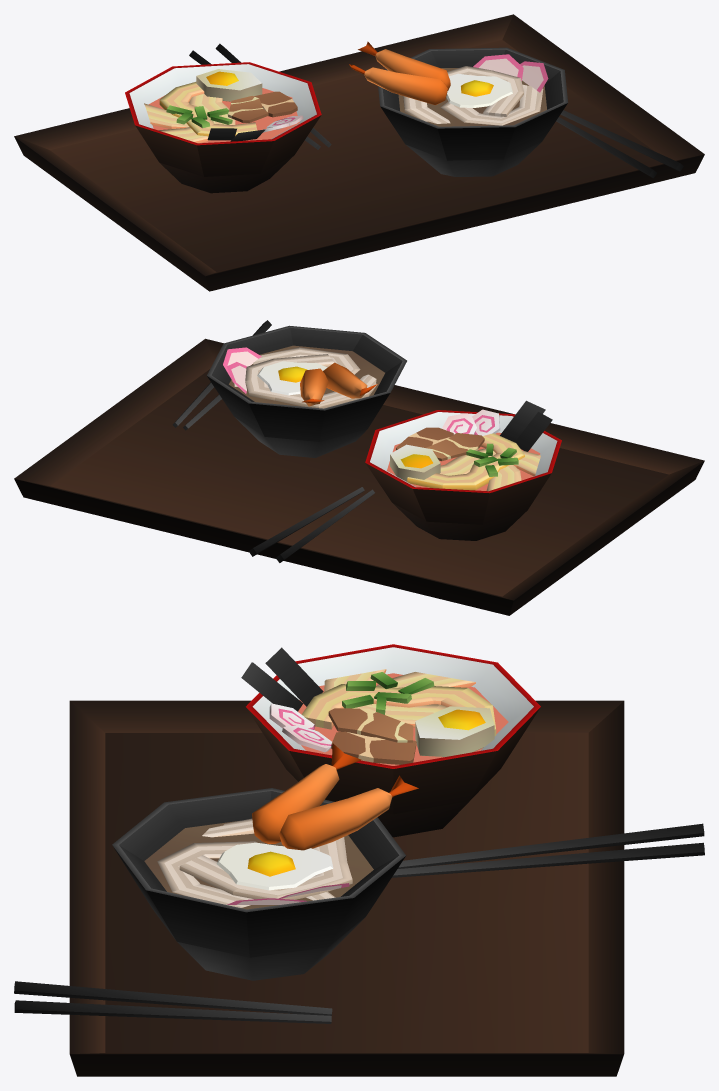
Rendered from SK_Food_004.FBX.
The picture shows the model from 3 angles, top to bottom: view 1: azimuth 30°, elevation 25°; view 2: azimuth 150°, elevation 25°; view 3: azimuth 270°, elevation 25°; orthographic projection. The views are drawn at different scales.
Parts seen in each view (by area): view 1: SK_Food_004; view 2: SK_Food_004; view 3: SK_Food_004.
Boxes of the visible parts, bbox=[...] form: SK_Food_004: bbox=[14, 14, 704, 291]; SK_Food_004: bbox=[14, 320, 704, 615]; SK_Food_004: bbox=[14, 644, 704, 1076].
Bounding box in the file's own units: 52.41 × 10.5 × 43.3.
Materials: 1 (1 with a texture image).
